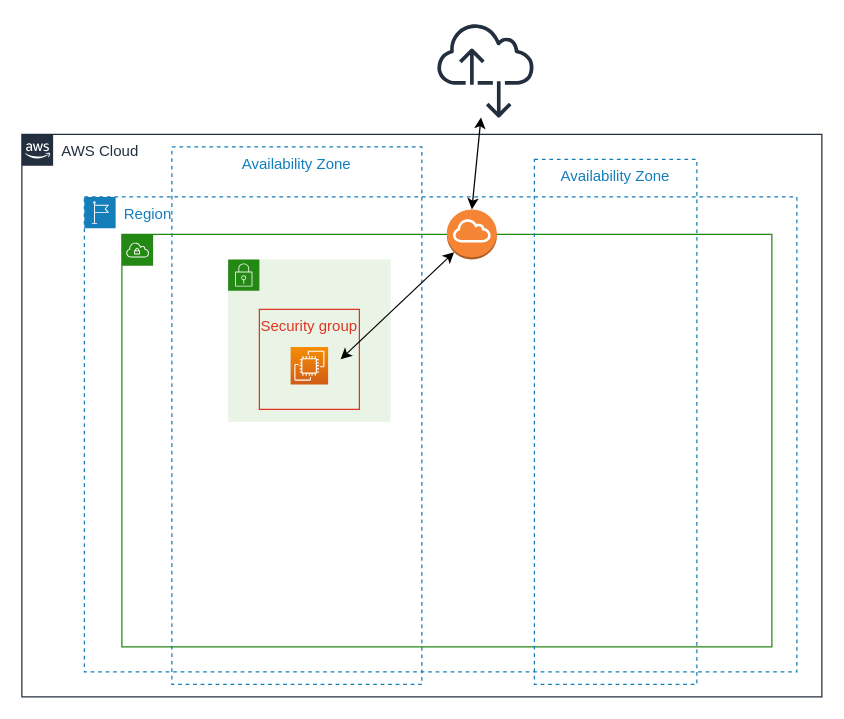
Some shapes in this 844 by 719 pixel diagram are drawn without their labels. Here are the shapes that lost their labels. From the top down, the box of each, then its label:
(227, 258, 391, 422): Public subnet
(121, 233, 772, 647): VPC
